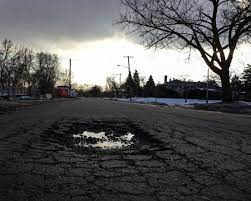potholes: (62, 117, 144, 155)
